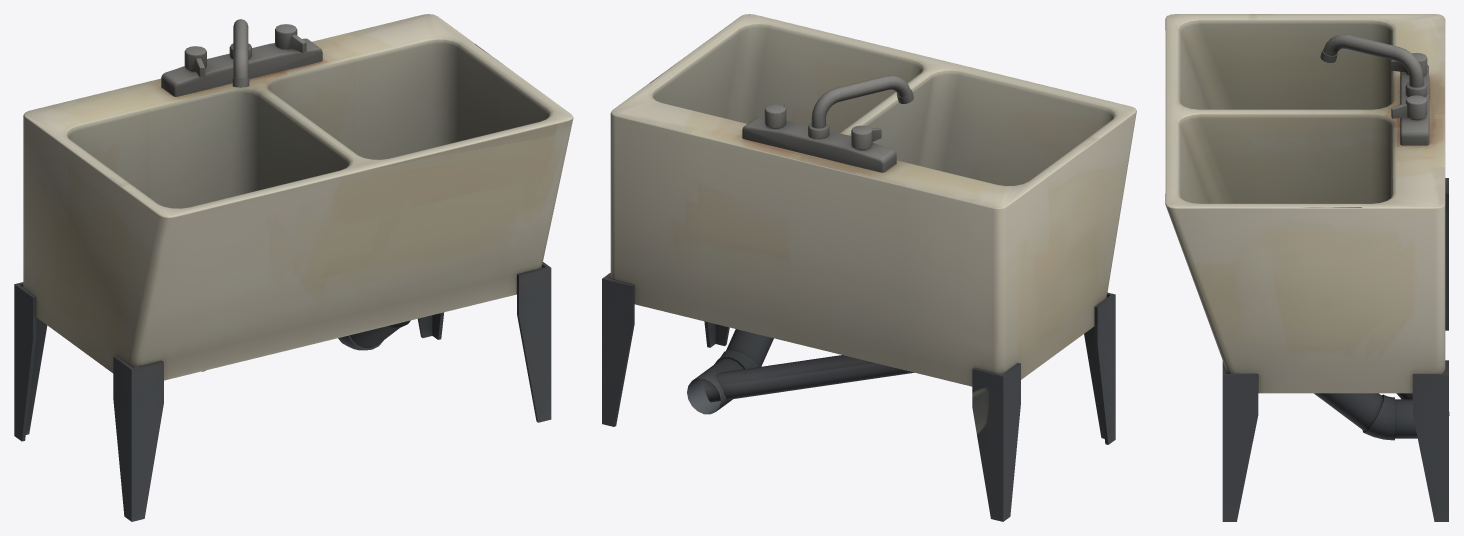
The picture shows the model from 3 angles, left to right: view 1: azimuth 30°, elevation 25°; view 2: azimuth 150°, elevation 25°; view 3: azimuth 270°, elevation 25°; orthographic projection. The views are drawn at different scales.
Parts seen in each view (by area): view 1: sink001_reference.002; view 2: sink001_reference.002; view 3: sink001_reference.002.
Part boxes in pixels (x1,y1,x2,y2): sink001_reference.002: [14, 14, 573, 521]; sink001_reference.002: [602, 14, 1136, 521]; sink001_reference.002: [1165, 14, 1449, 521].
Size of the model in its own units: 81.25 by 71.25 by 49.4.
1 material, 1 textured.
